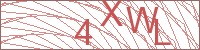4: (72, 18, 94, 46)
L: (153, 18, 172, 47)
W: (125, 6, 160, 34)
X: (99, 1, 124, 28)
